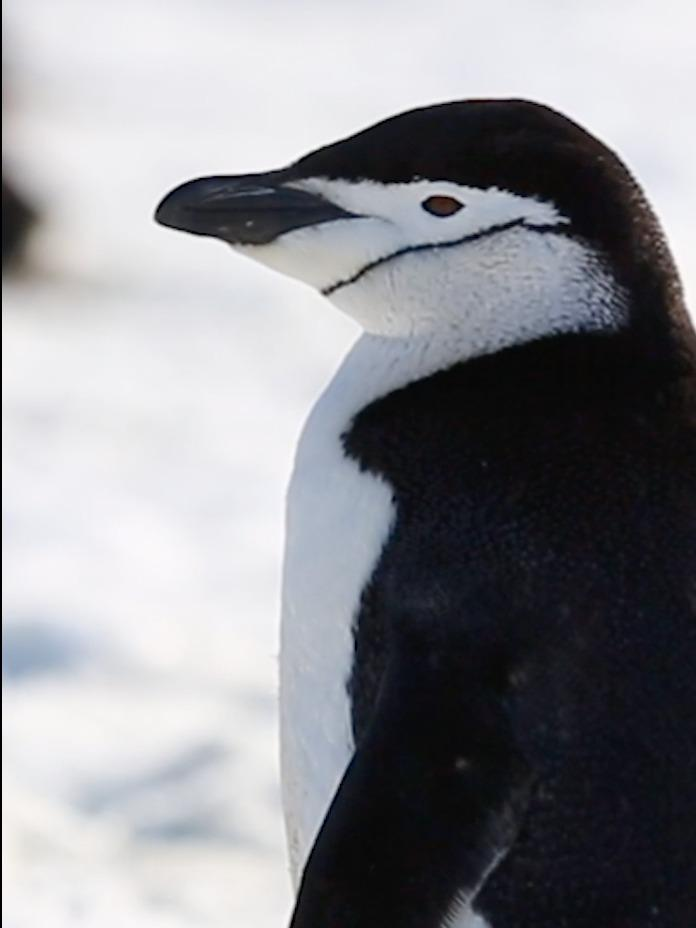chinstrap: (131, 91, 696, 928)
